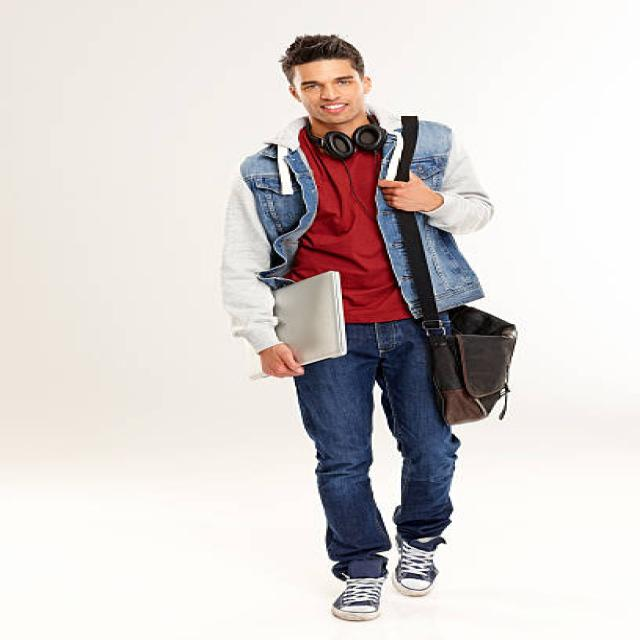Edited images: (207, 20, 531, 632)
